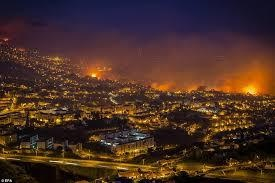fire: (240, 82, 260, 95)
